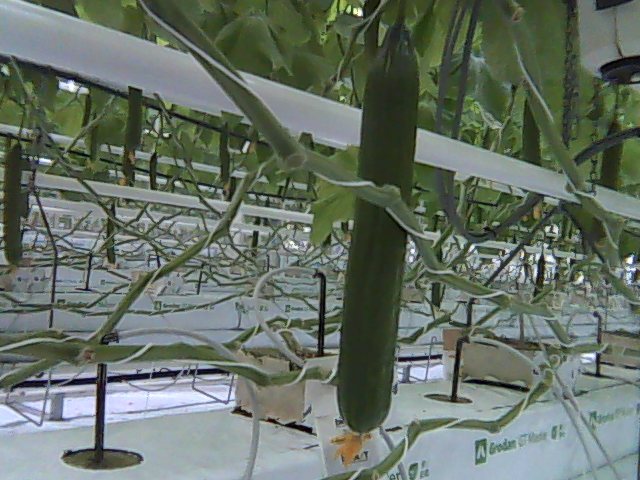concombre: (335, 16, 424, 457)
